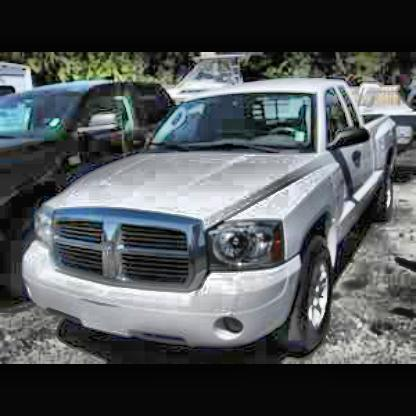Dodge Dakota Club Cab 2007: (23, 81, 404, 358)
